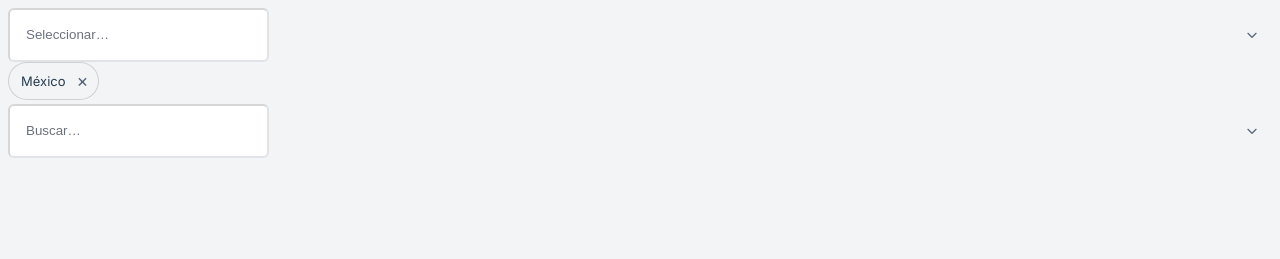
select render escape hatches fall back safely when a renderer returns an invalid child
This screenshot has width=1280, height=259.
Expected: the button named "Quitar México" is shown, [70,68,96,94]
Click the dropdown named "Opciones seguras": click(138, 35) [8,8,269,62]
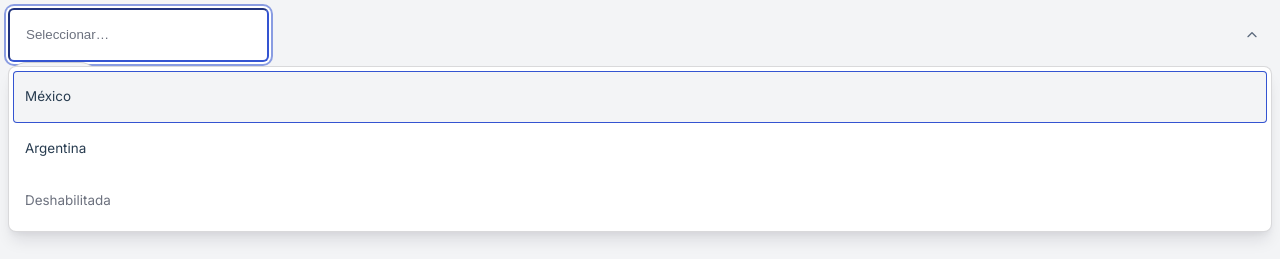
Expected: the option "México" is shown, [13,71,1267,123]
